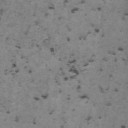oxide scale of temperature system: (5, 0, 128, 128), (0, 8, 4, 16), (124, 12, 128, 16)
